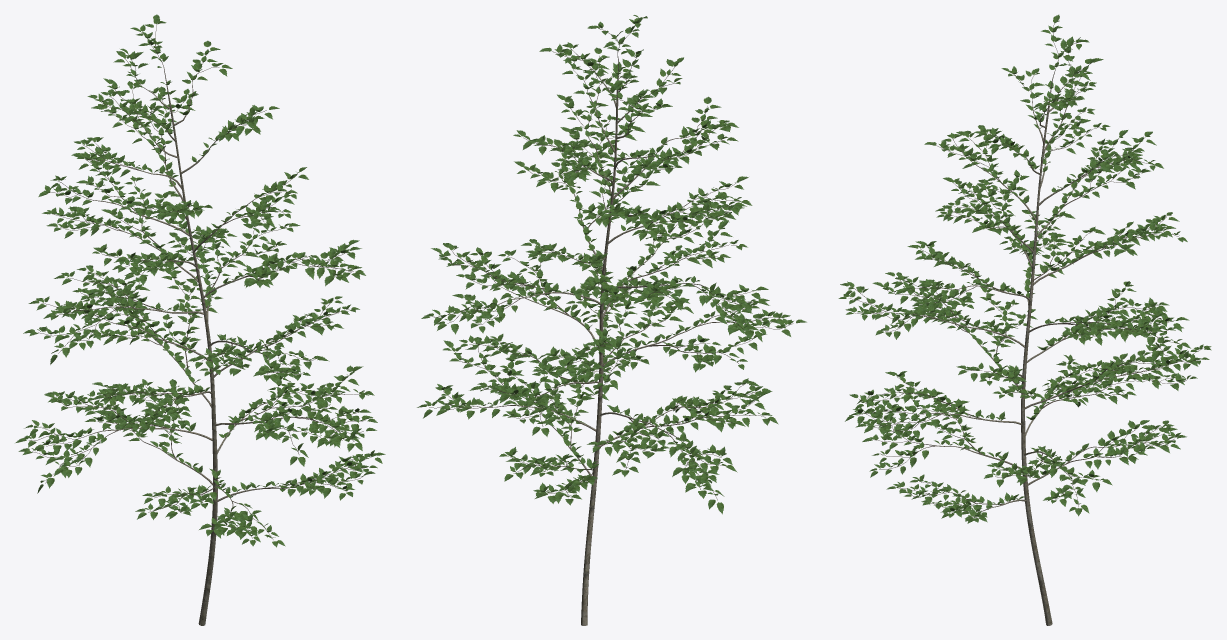
The model's file is bush_02_lod0.glb.
3 views of the same model, side by side, from view 1: azimuth 30°, elevation 25°; view 2: azimuth 150°, elevation 25°; view 3: azimuth 270°, elevation 25° (orthographic). The views are drawn at different scales.
Parts seen in each view (by area): view 1: Scatter_bush_02_LOD0; view 2: Scatter_bush_02_LOD0; view 3: Scatter_bush_02_LOD0.
Boxes of the visible parts, left/top/right/bottom form: Scatter_bush_02_LOD0: left=15, top=14, right=385, bottom=625; Scatter_bush_02_LOD0: left=417, top=15, right=806, bottom=625; Scatter_bush_02_LOD0: left=838, top=14, right=1211, bottom=625.
Bounding box in the file's own units: 1.07 × 1.94 × 1.14.
1 material, 1 textured.
